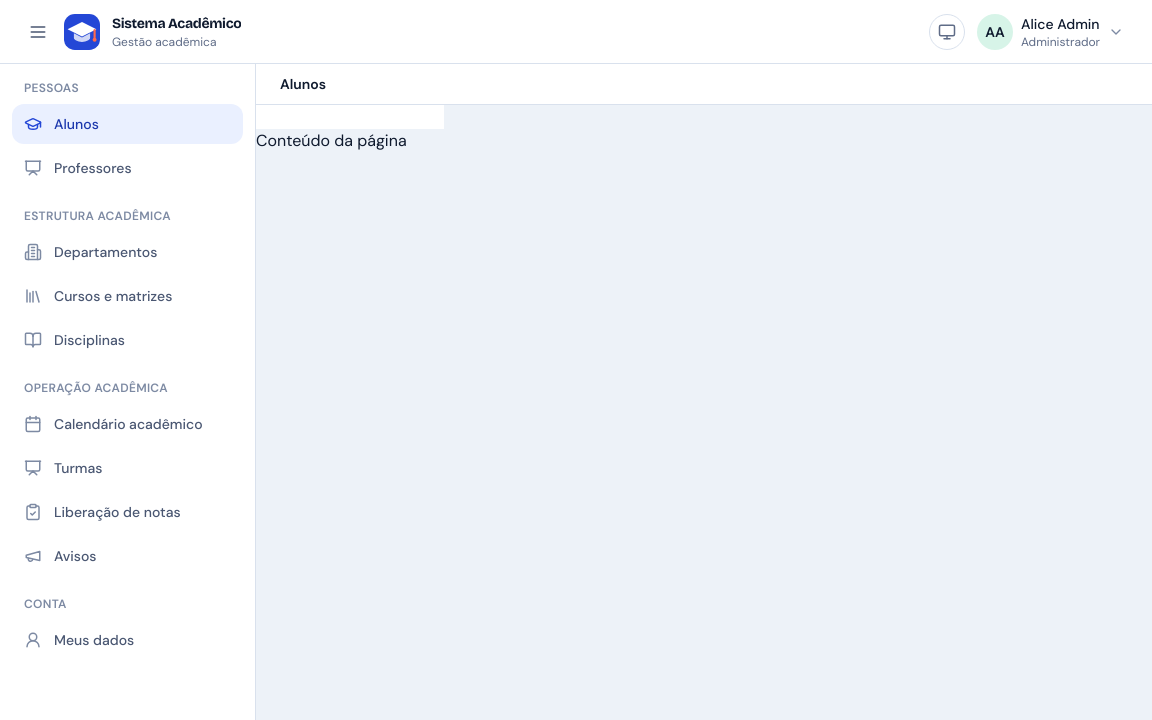
Test: AppShell on a wide screen › lists the keyboard shortcuts
This screenshot has width=1152, height=720.
Click the button with aria-label "Menu de Alice Admin": (1052, 32) [973, 10, 1132, 54]
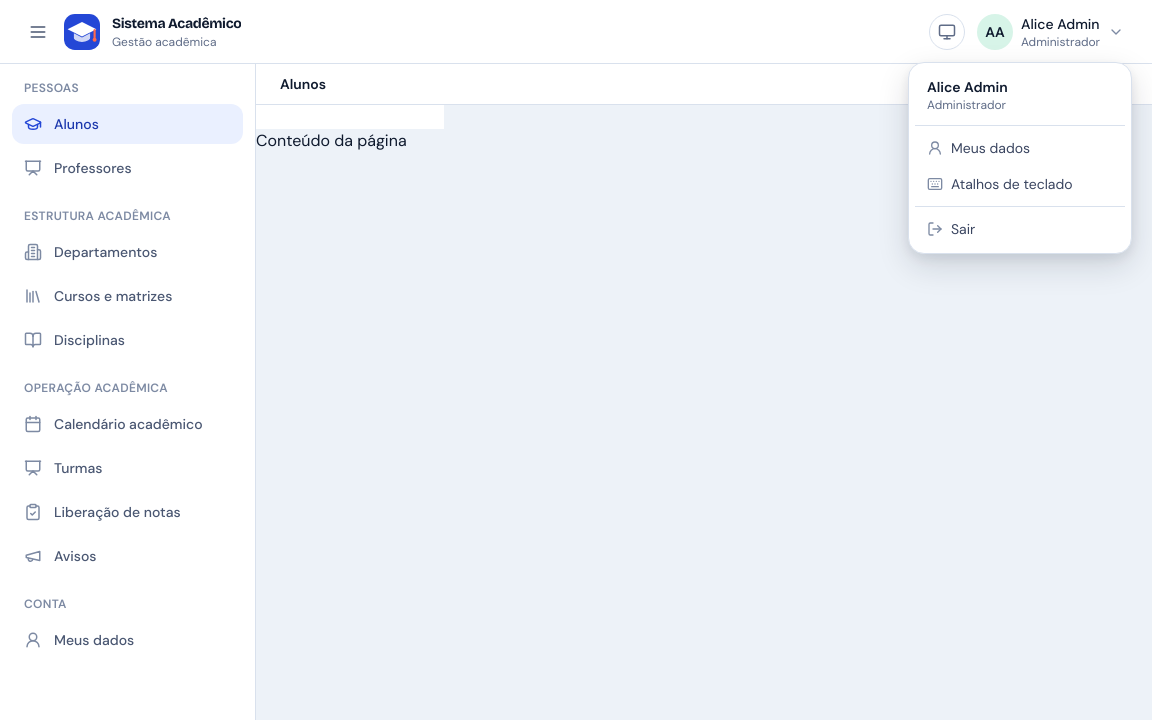
Click the menu item "Atalhos de teclado": (1000, 184) [927, 175, 1073, 193]
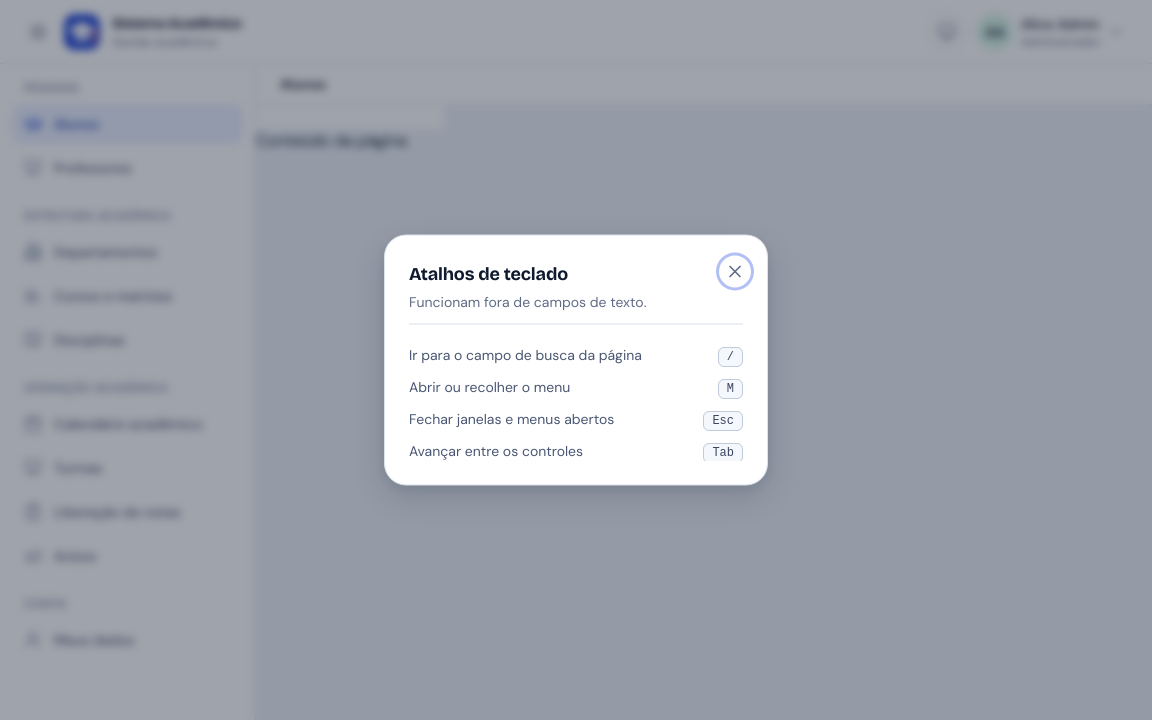
Now the text "Ir para o campo de busca da página" is shown, box [409, 344, 642, 364]
